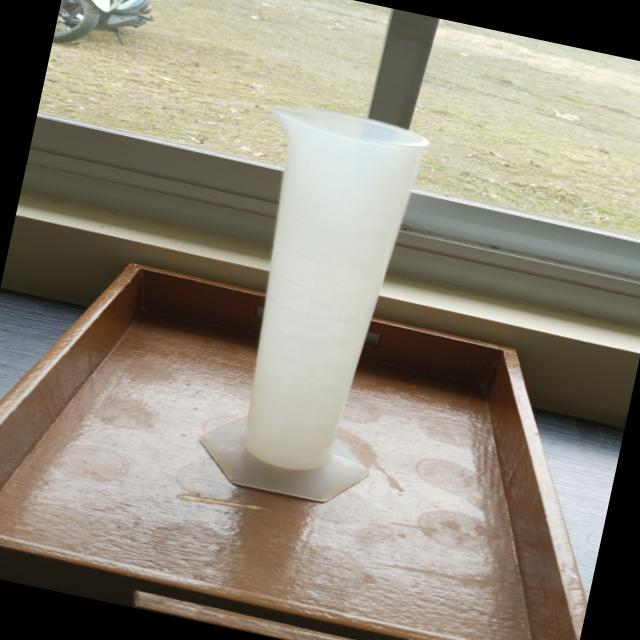graduated_cylinder: (156, 80, 452, 518)
